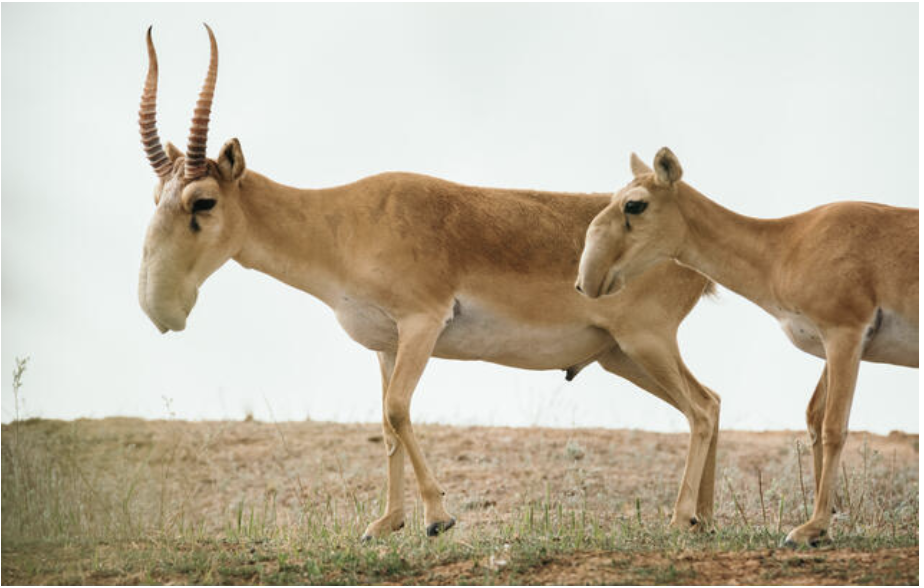saiga: (113, 18, 735, 551)
